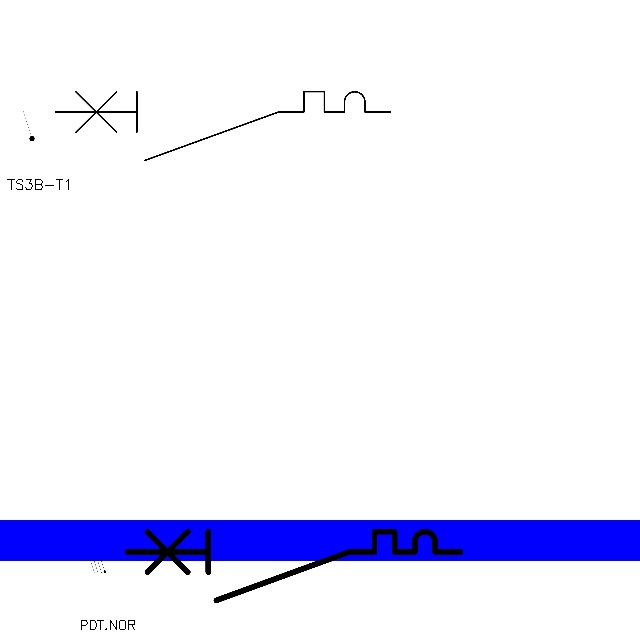interruptor_termomagnetico: (46, 83, 399, 169), (118, 523, 469, 609)
